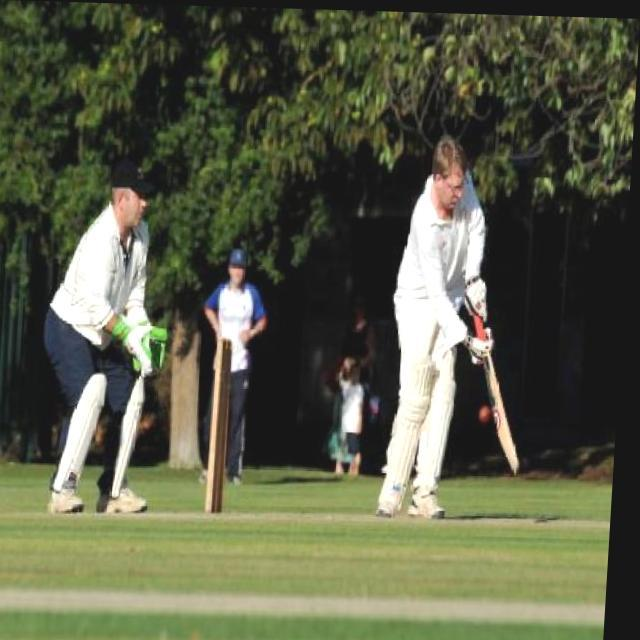-: (470, 385, 500, 452)
